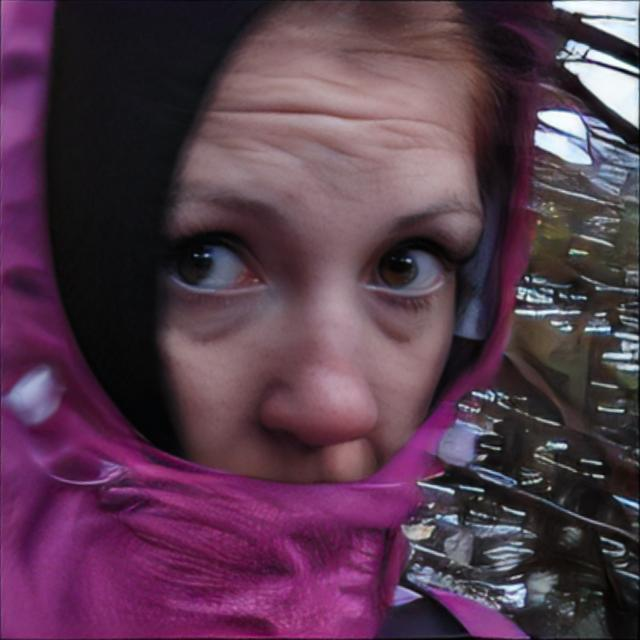fear: (148, 0, 488, 506)
